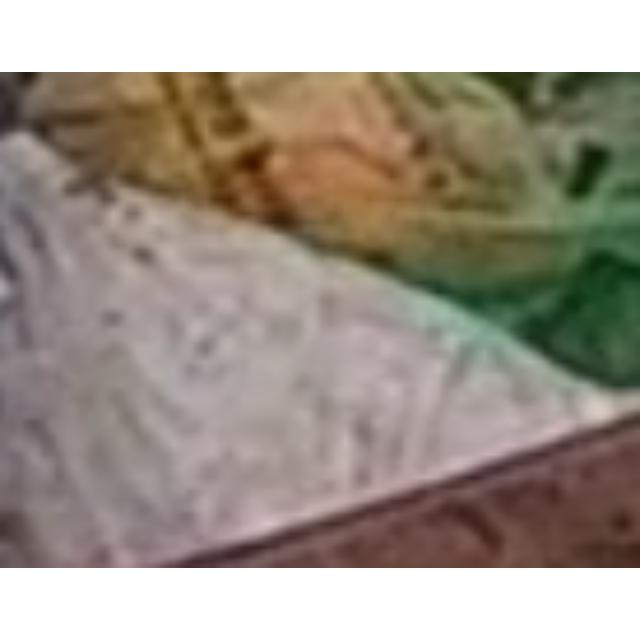general_trashbag: (0, 72, 640, 307)
